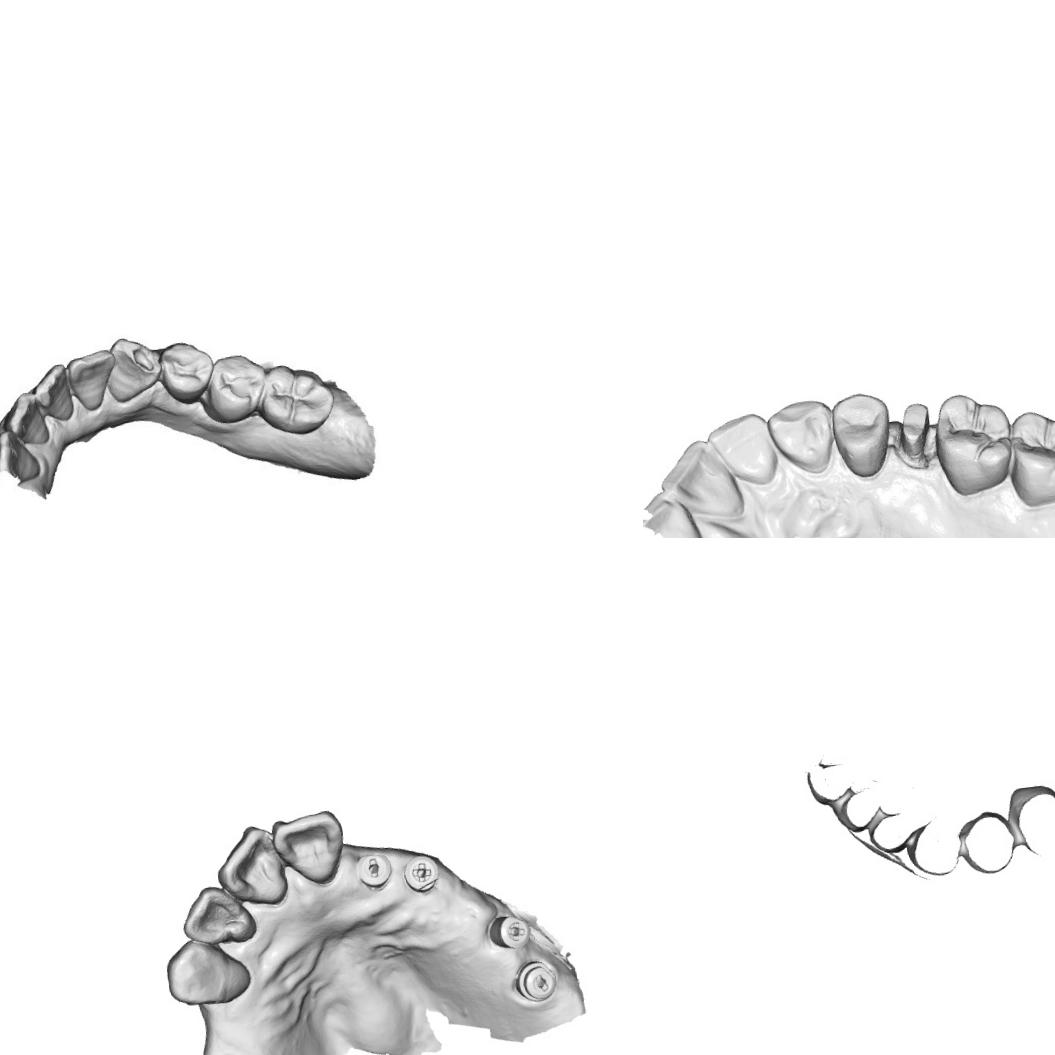canine: (160, 932, 258, 1013), (766, 389, 836, 481), (105, 336, 160, 398)
crown: (892, 398, 936, 466)
implant_minus: (512, 956, 560, 1007), (487, 906, 534, 954), (352, 850, 392, 890)
implant_plus: (402, 851, 445, 895)
incisor: (656, 434, 748, 530), (208, 820, 290, 913), (703, 404, 781, 497), (268, 805, 350, 891), (176, 880, 259, 949), (68, 348, 120, 412), (34, 364, 82, 424), (8, 392, 57, 448), (0, 425, 43, 488)
molar: (928, 388, 1016, 499), (252, 356, 338, 440), (1000, 404, 1055, 509)
premolar: (829, 389, 895, 478), (198, 350, 268, 424), (155, 341, 213, 407)
